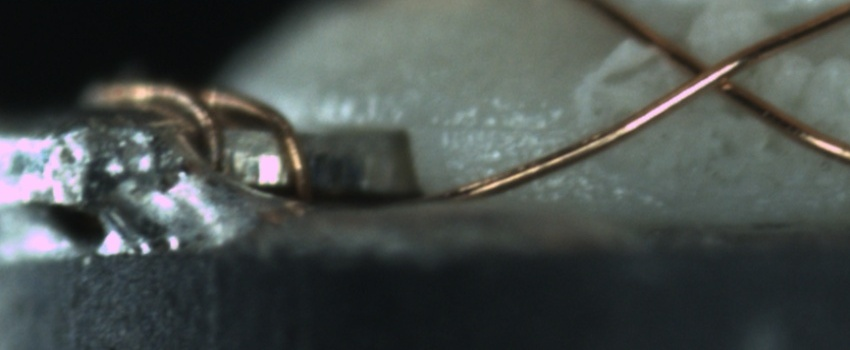CL: (657, 35, 754, 108)
DL: (427, 94, 583, 158)
TE: (73, 68, 325, 217)
